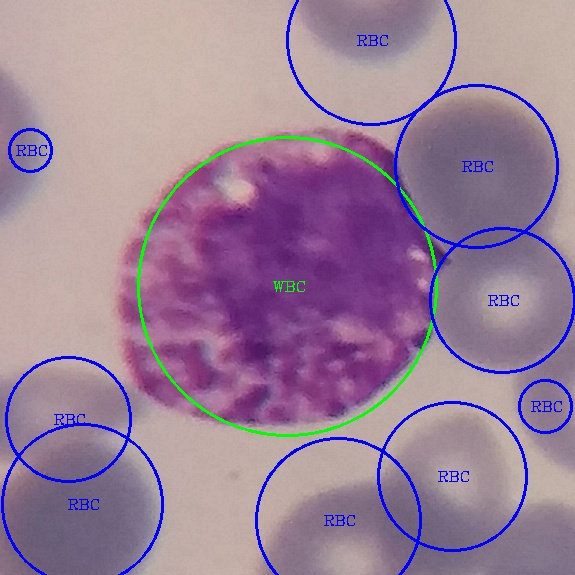RBC: (391, 94, 562, 246), (373, 406, 532, 557), (1, 444, 172, 574), (250, 473, 459, 573), (429, 235, 574, 371), (1, 366, 149, 456), (282, 0, 456, 71), (492, 335, 574, 471)
WBC: (111, 126, 451, 434)
